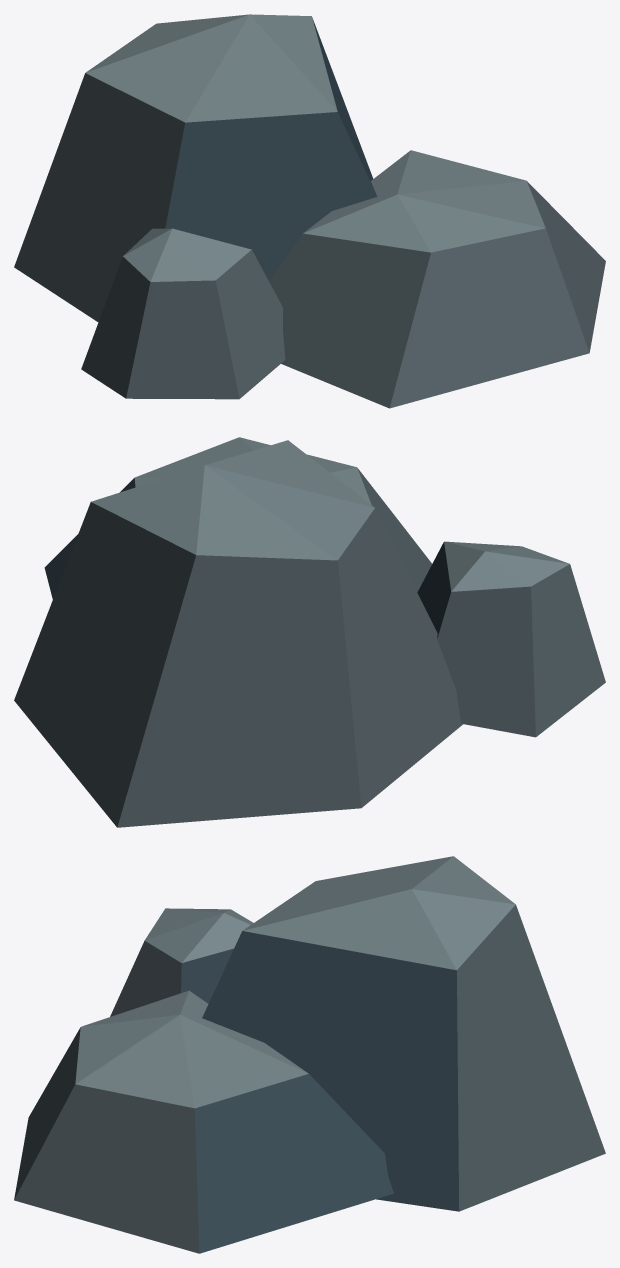
Rendered from mountain_rocks_1.gltf.
3 renders of one model, top to bottom at view 1: azimuth 30°, elevation 25°; view 2: azimuth 150°, elevation 25°; view 3: azimuth 270°, elevation 25°, orthographic. The views are drawn at different scales.
Parts seen in each view (by area): view 1: sphere (×3); view 2: sphere (×3); view 3: sphere (×3).
Boxes of the visible parts, x1,y1,x2,y2 form: sphere (×3): (14,14,605,408); sphere (×3): (14,437,605,827); sphere (×3): (14,856,605,1253).
Size of the model in its own units: 0.5266 by 0.2656 by 0.5255.
1 material, 1 textured.
